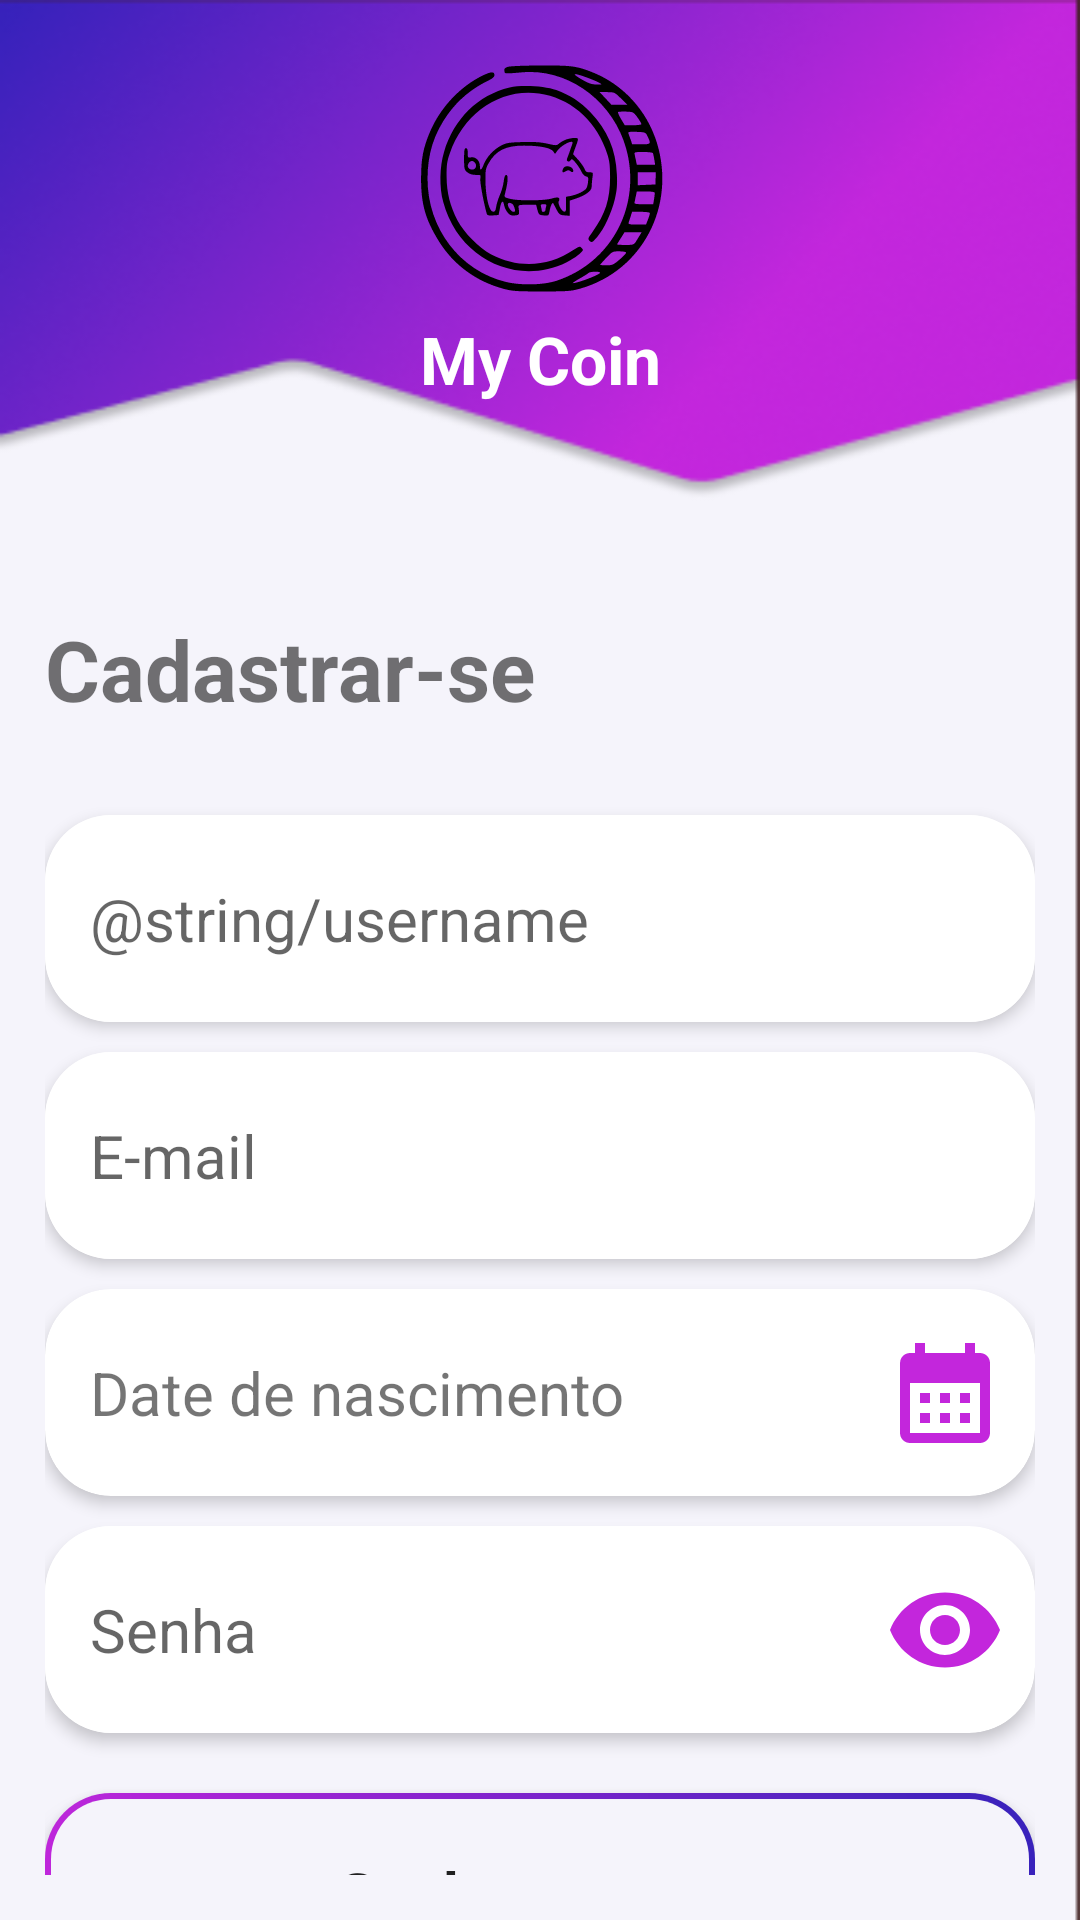

Named icons in this screenshot (1080*1920) and their centers, [x,y]:
calendar: [945,1393]
eye: [945,1630]
